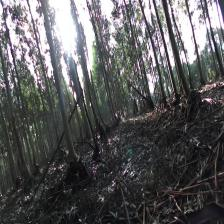trunk: (44, 26, 78, 164), (165, 17, 191, 95), (144, 18, 165, 102), (96, 41, 116, 122), (207, 18, 224, 71), (192, 32, 204, 86)
